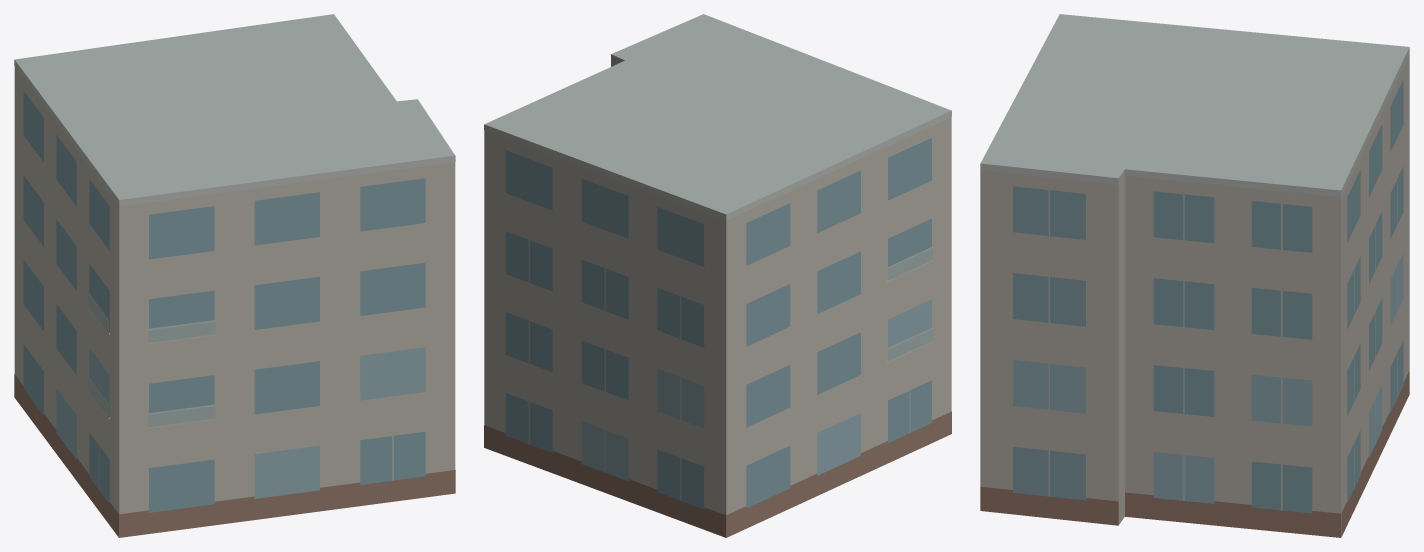
The model's file is survey-upis-32966507.glb.
3 views of the same model, side by side, from view 1: azimuth 30°, elevation 25°; view 2: azimuth 150°, elevation 25°; view 3: azimuth 270°, elevation 25° (orthographic). The views are drawn at different scales.
Visible parts, largest first — view 1: survey-upis-32966507.tmp; view 2: survey-upis-32966507.tmp; view 3: survey-upis-32966507.tmp.
Part boxes in pixels (x1,y1,x2,y2): survey-upis-32966507.tmp: [14, 14, 455, 537]; survey-upis-32966507.tmp: [484, 14, 951, 537]; survey-upis-32966507.tmp: [980, 14, 1409, 537].
Bounding box in the file's own units: 13.95 × 12.8 × 14.34.
